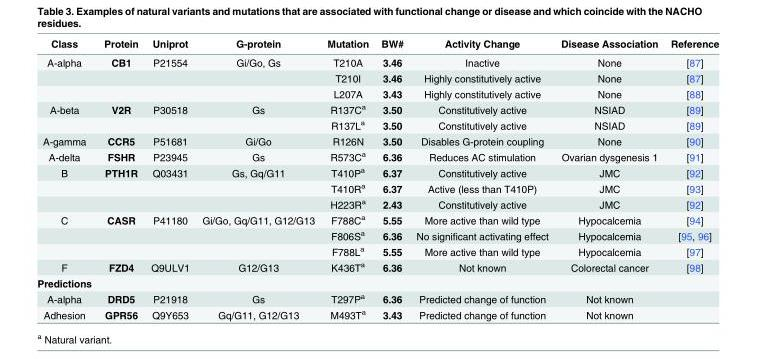table: (36, 37, 718, 320)
table column: (409, 37, 554, 320), (195, 37, 320, 320), (554, 37, 663, 320), (36, 37, 97, 320), (663, 37, 718, 320), (320, 37, 374, 320), (143, 37, 195, 320), (97, 37, 143, 320), (374, 37, 409, 320)
table column header: (36, 37, 718, 52)
table projected row header: (36, 274, 718, 290)
table row: (36, 52, 718, 69), (36, 69, 718, 85), (36, 100, 718, 116), (36, 116, 718, 132), (36, 132, 718, 148), (36, 163, 718, 179), (36, 179, 718, 195), (36, 195, 718, 211), (36, 211, 718, 227), (36, 242, 718, 258), (36, 258, 718, 274), (36, 274, 718, 290), (36, 37, 718, 52), (36, 85, 718, 100), (36, 148, 718, 163), (36, 227, 718, 242), (36, 290, 718, 305), (36, 305, 718, 320)
table spanning cell: (36, 52, 97, 100), (36, 163, 97, 211), (36, 211, 97, 258), (36, 100, 97, 132)
